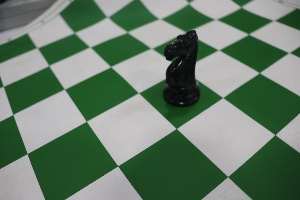black_horse: (155, 17, 203, 113)
